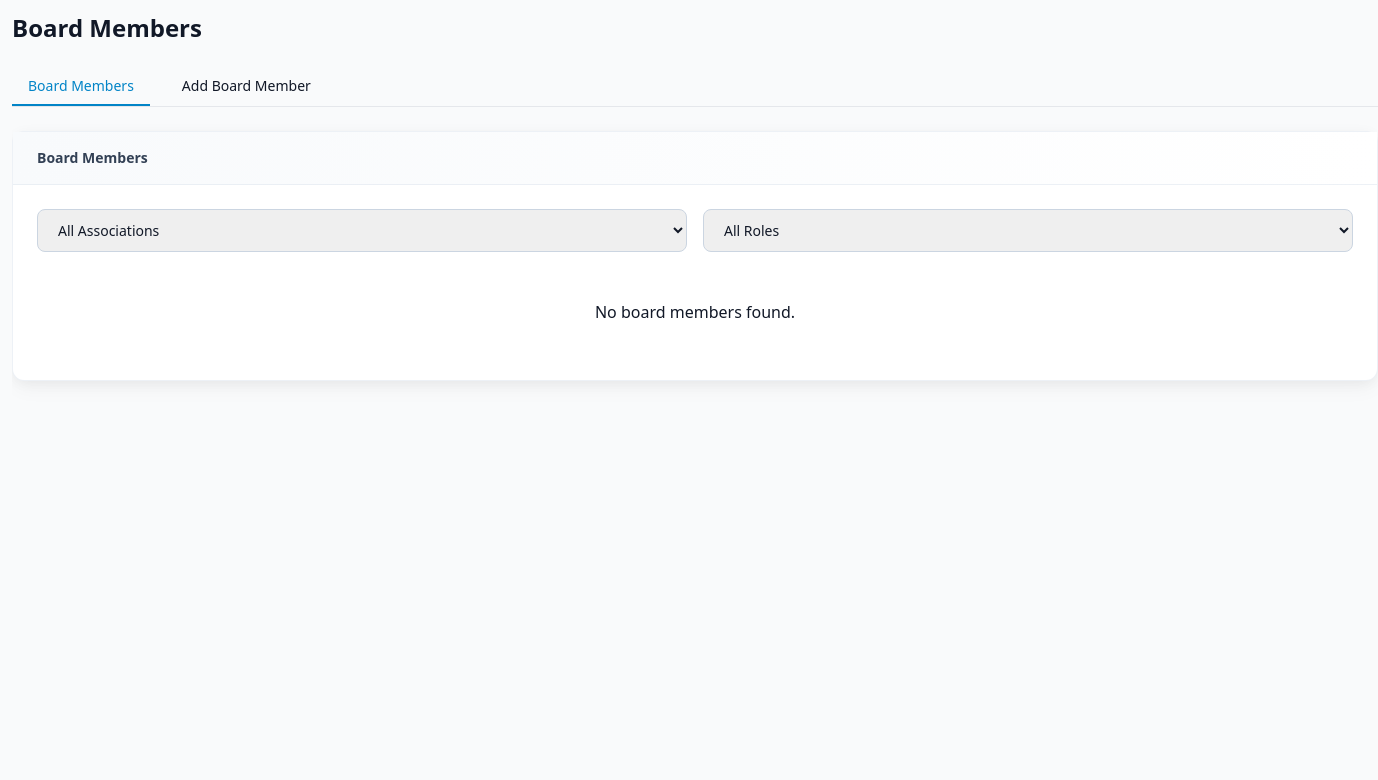
Test: BoardMembersPage › should switch to create tab
The width and height of the screenshot is (1378, 780).
Click the button "Add Board Member": (246,87) [166, 68, 327, 106]
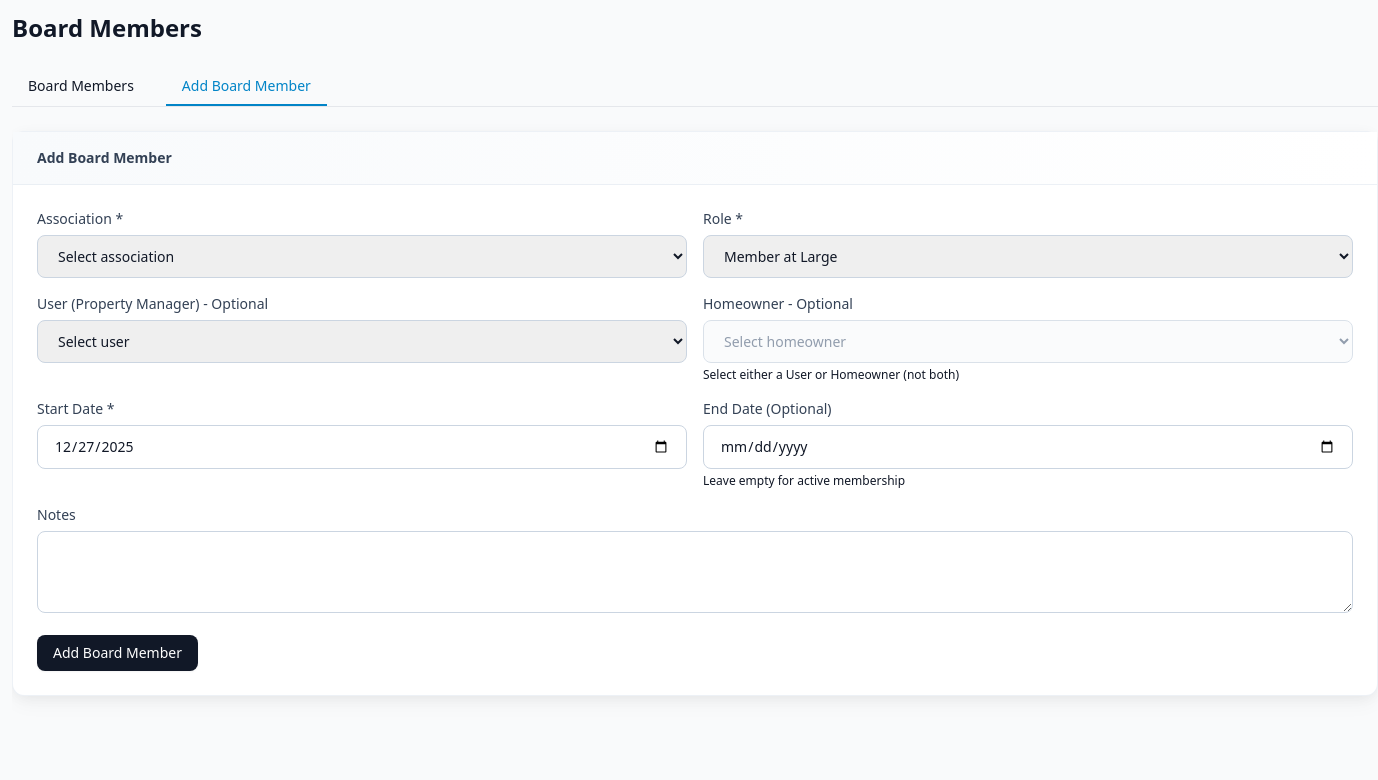
Check: the text "Association *" is shown, box [37, 209, 123, 228]
